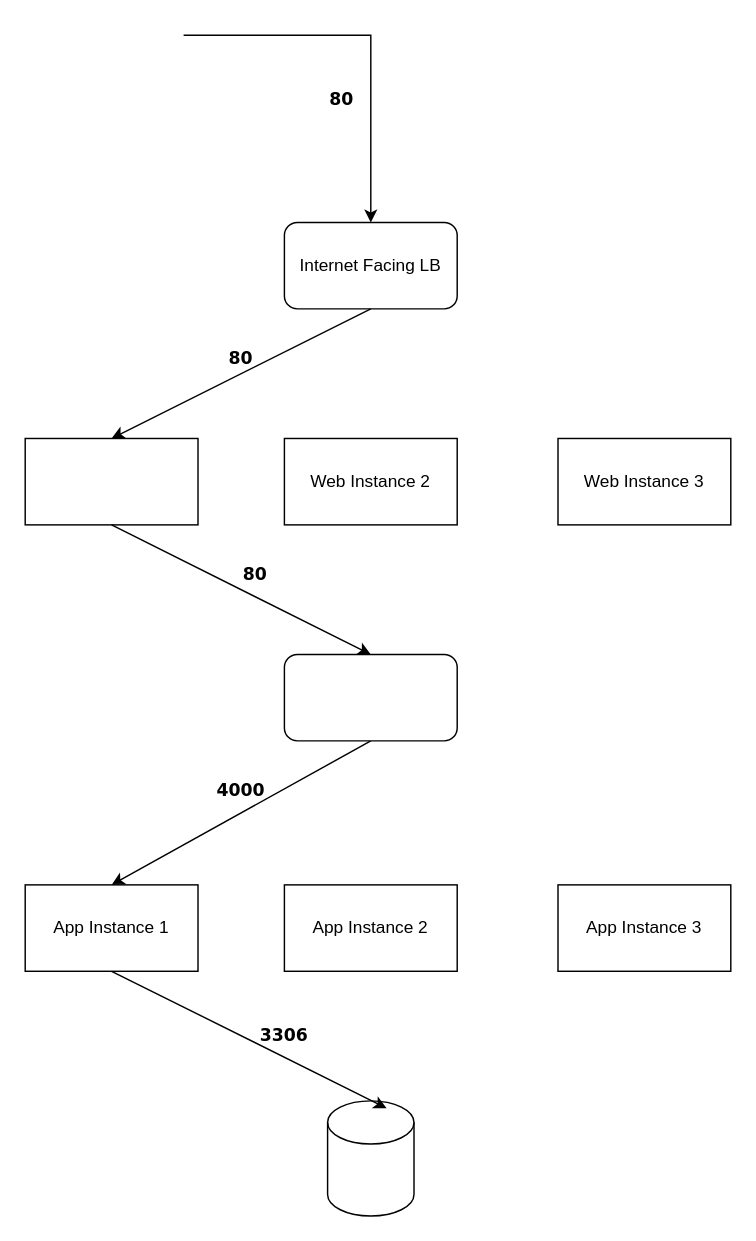
This 756x1241 diagram has some shape labels left out. Each missing label, with the centre of its shape:
Internal LB: point (370, 697)
RDS DB: point (370, 1157)
Web Instance 1: point (111, 481)
